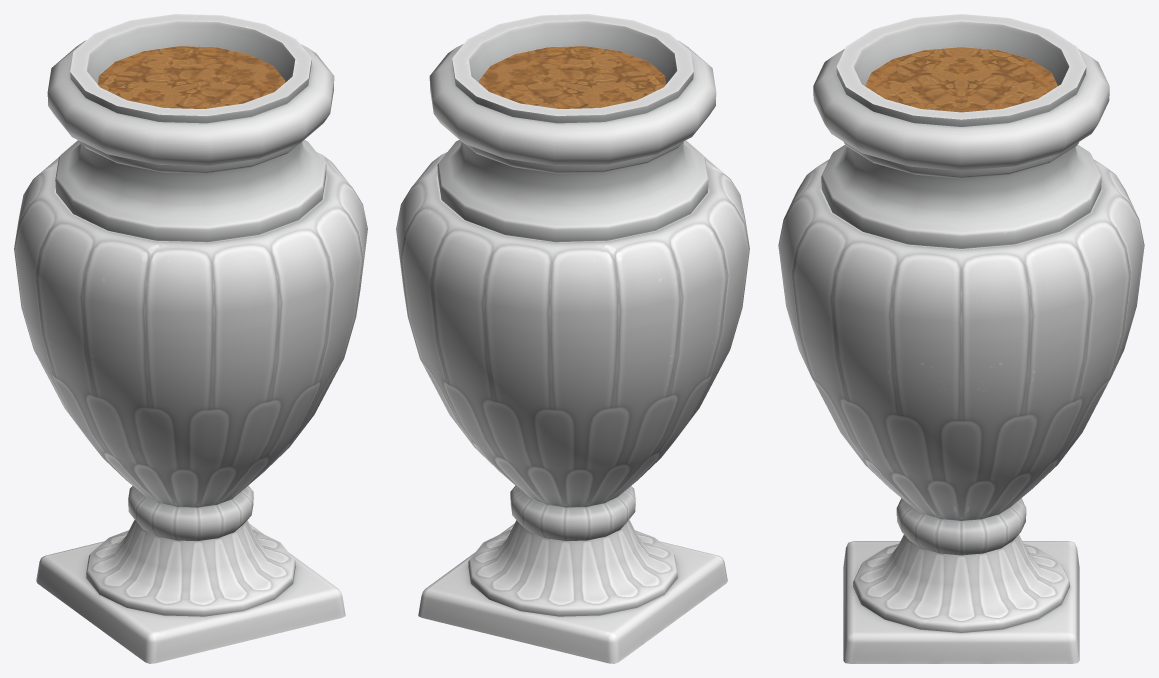
Rendered from ParkFlowerPot03.FBX.
3 views of the same model, side by side, from view 1: azimuth 30°, elevation 25°; view 2: azimuth 150°, elevation 25°; view 3: azimuth 270°, elevation 25° (orthographic). The views are drawn at different scales.
Parts seen in each view (by area): view 1: ParkFlowerPot03; view 2: ParkFlowerPot03; view 3: ParkFlowerPot03.
Part boxes in pixels (x1,y1,x2,y2): ParkFlowerPot03: (14,14,367,663); ParkFlowerPot03: (396,14,749,663); ParkFlowerPot03: (778,14,1144,663).
Size of what is drawn, in the model's own units: 0.9889 by 1.63 by 0.9889.
